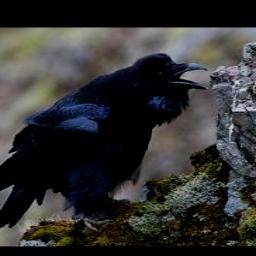Crow: (0, 51, 210, 241)
